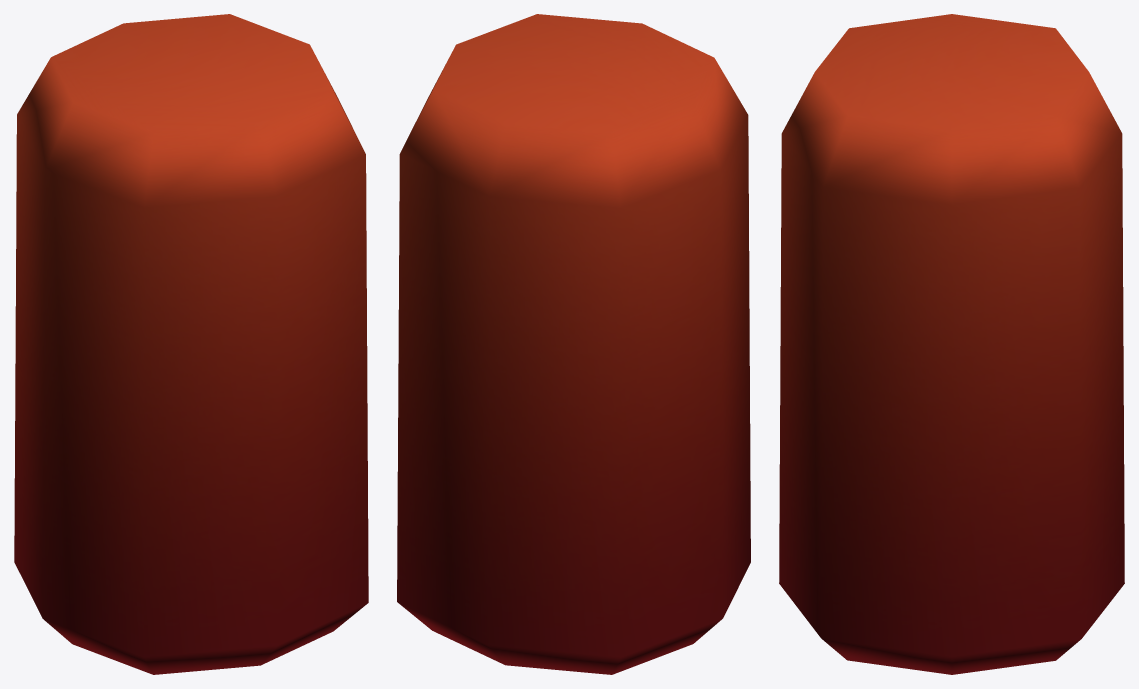
The model's file is bottle_glass_content.fbx.
The picture shows the model from 3 angles, left to right: view 1: azimuth 30°, elevation 25°; view 2: azimuth 150°, elevation 25°; view 3: azimuth 270°, elevation 25°; orthographic projection.
Parts seen in each view (by area): view 1: bottle_glass_content; view 2: bottle_glass_content; view 3: bottle_glass_content.
Boxes of the visible parts, bbox=[...] form: bottle_glass_content: bbox=[14, 14, 368, 674]; bottle_glass_content: bbox=[397, 14, 750, 674]; bottle_glass_content: bbox=[779, 14, 1124, 674].
Bounding box in the file's own units: 20.29 × 35.28 × 20.3.
